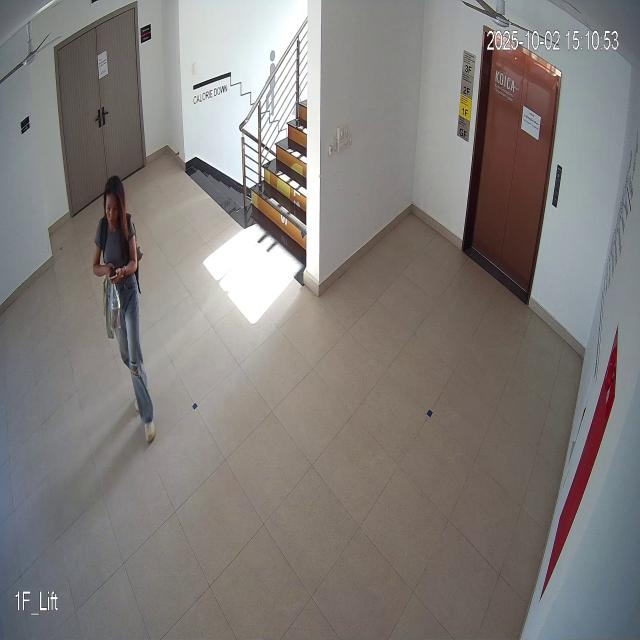face: (101, 176, 128, 232)
